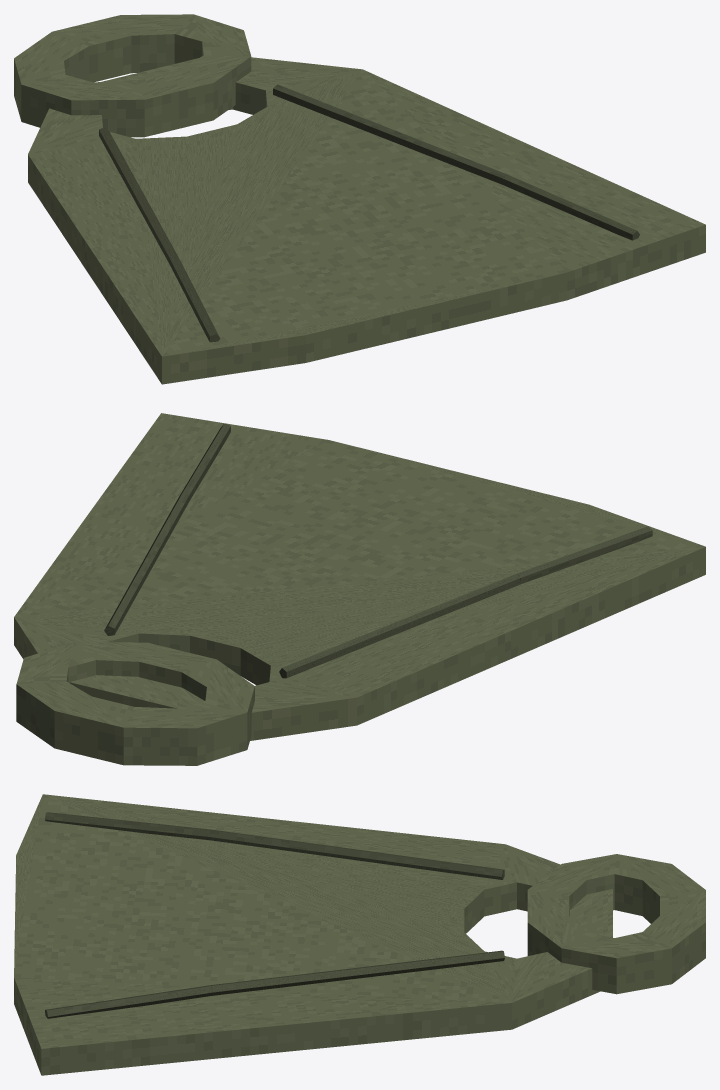
File: military_poncho_heavy.glb
3 renders of one model, top to bottom at view 1: azimuth 30°, elevation 25°; view 2: azimuth 150°, elevation 25°; view 3: azimuth 270°, elevation 25°, orthographic. The views are drawn at different scales.
Parts seen in each view (by area): view 1: block_draped fabric, block_folded hood, block_fabric seam 0 (×2), block_fabric seam 1 (×2); view 2: block_draped fabric, block_folded hood, block_fabric seam 0 (×2), block_fabric seam 1 (×2); view 3: block_draped fabric, block_folded hood, block_fabric seam 0 (×2), block_fabric seam 1 (×2).
Boxes of the visible parts, box(x1,y1,x2,y2) form: block_draped fabric: box(28, 57, 705, 384); block_folded hood: box(14, 14, 251, 137); block_fabric seam 0 (×2): box(99, 84, 507, 264); block_fabric seam 1 (×2): box(170, 175, 639, 342); block_draped fabric: box(14, 413, 705, 740); block_folded hood: box(16, 642, 254, 765); block_fabric seam 0 (×2): box(104, 493, 520, 678); block_fabric seam 1 (×2): box(179, 423, 652, 583); block_draped fabric: box(14, 794, 612, 1075); block_folded hood: box(527, 854, 705, 994); block_fabric seam 0 (×2): box(209, 829, 504, 995); block_fabric seam 1 (×2): box(45, 812, 212, 1018).
Size of the model in its own units: 0.6375 by 0.0481 by 0.7319.
1 material, 1 textured.
